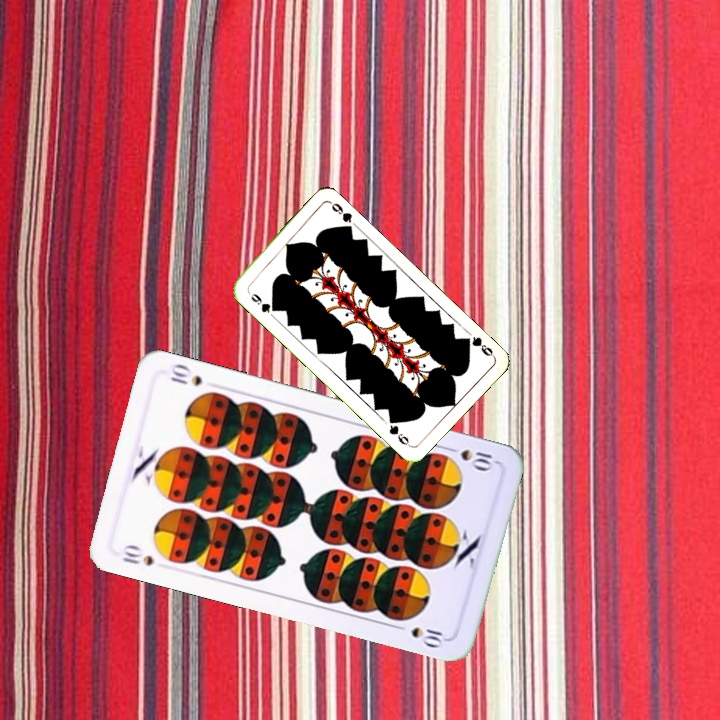G9: (243, 286, 279, 316), (459, 332, 497, 360)
S10: (441, 442, 499, 473), (118, 541, 156, 569)
